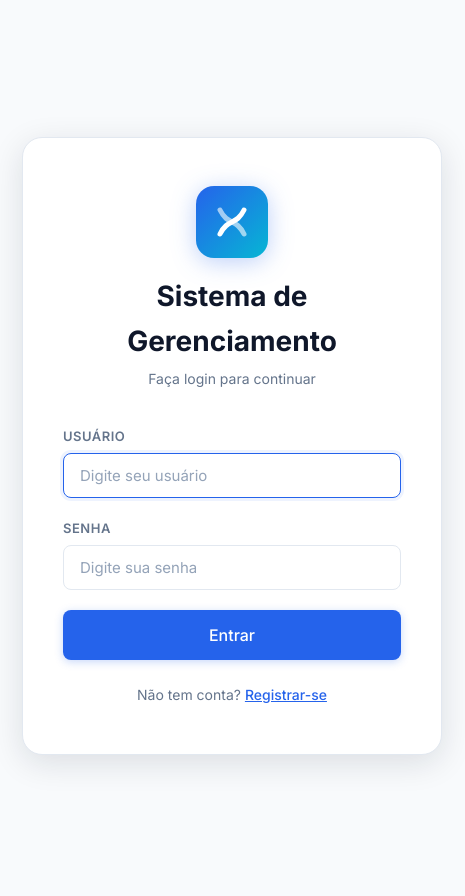
Test: Login Page › shows error when passwords do not match
Click the button "Registrar-se" at (286, 694), box [245,686,327,703]
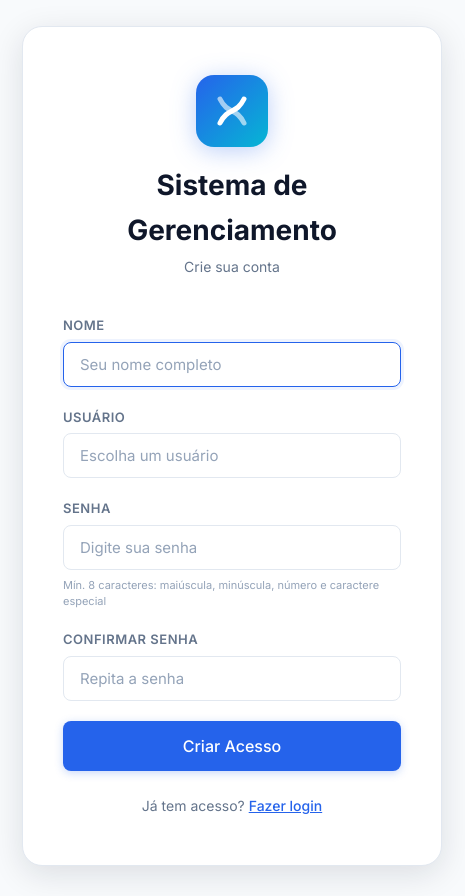
Type "Test User" into the field with placeholder "Seu nome completo" at (232, 364), box [63,342,401,387]
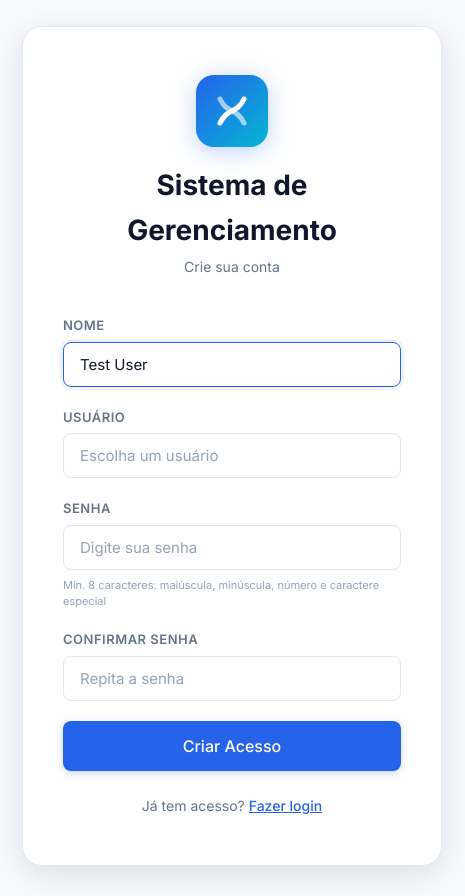
Type "testuser" into the field with placeholder "Escolha um usuário" at (232, 456), box [63,433,401,478]
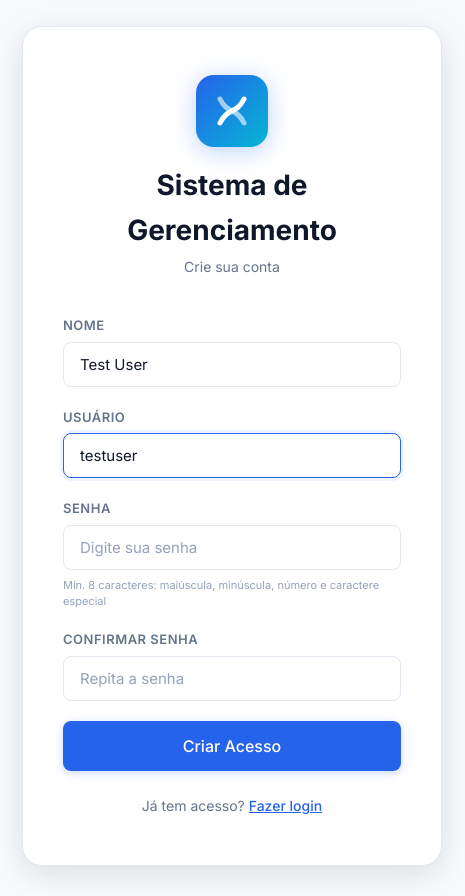
Type "Admin@123" into the password field with placeholder "Digite sua senha" at (232, 548), box [63,525,401,570]
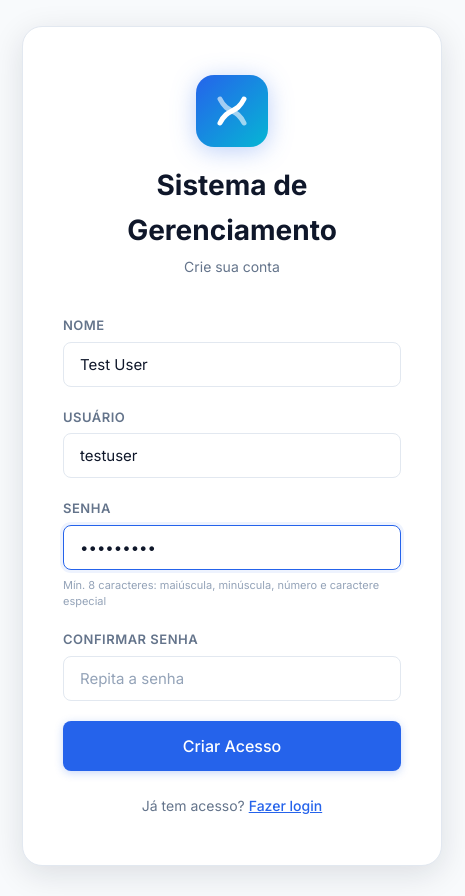
Type "Admin@456" into the password field with placeholder "Repita a senha" at (232, 678), box [63,656,401,701]
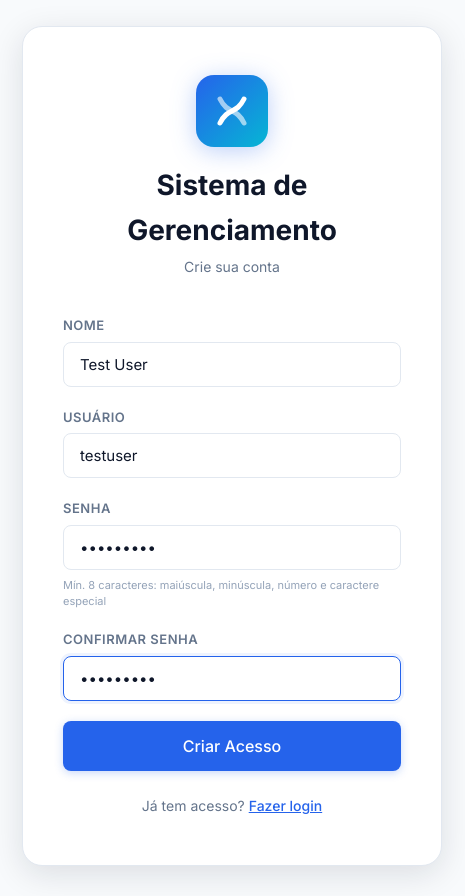
Click the button "Criar Acesso" at (232, 746), box [63,721,401,771]
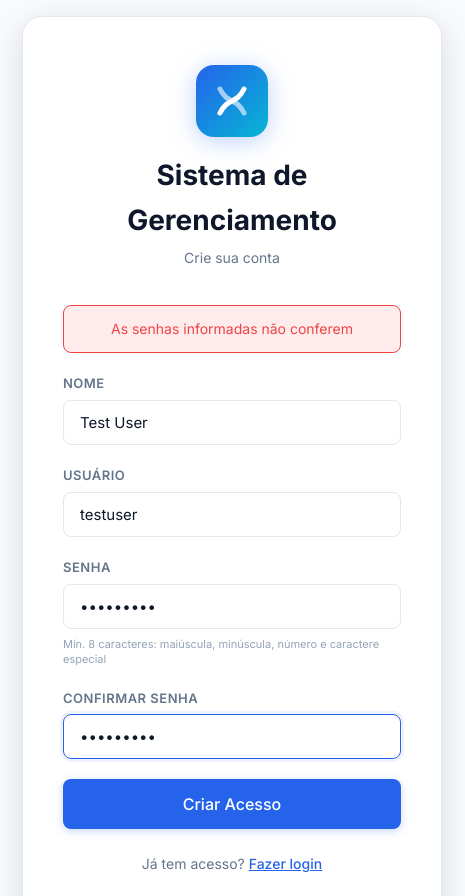
Now the text "As senhas informadas não conferem" is shown, box [63,305,401,353]
